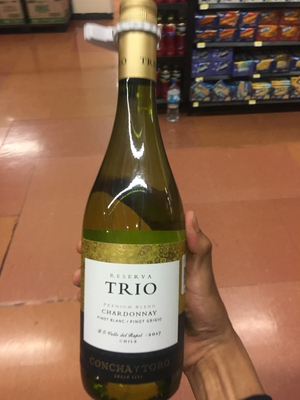trio chardonnay: (65, 43, 199, 400)
